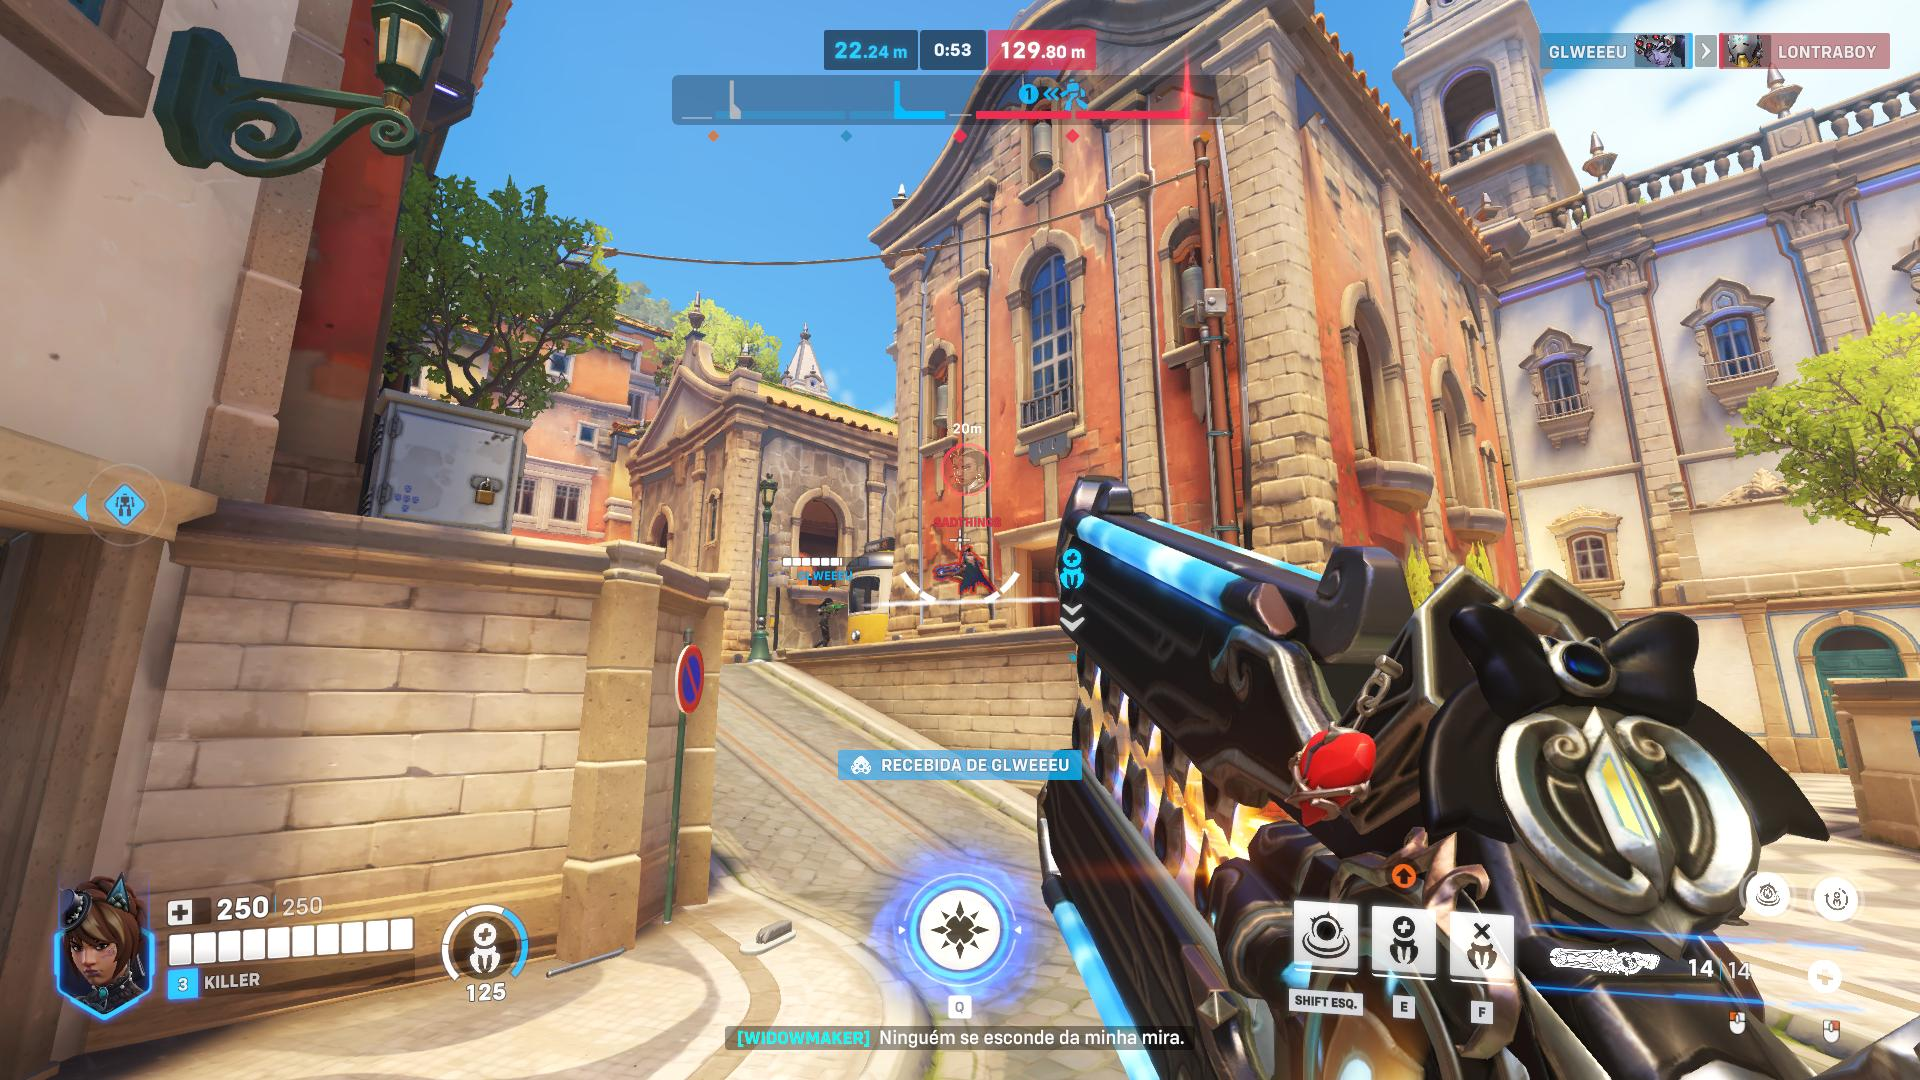enemy: (959, 546, 984, 593)
